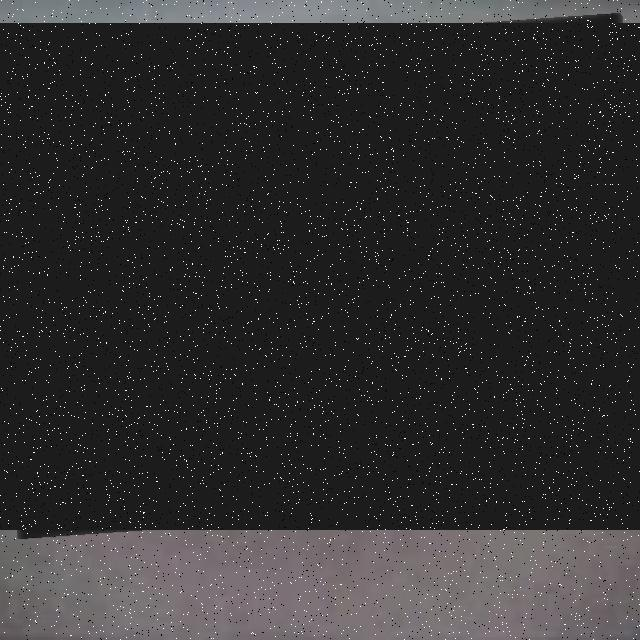dua puluh ribu rupiah: (0, 23, 640, 530)
